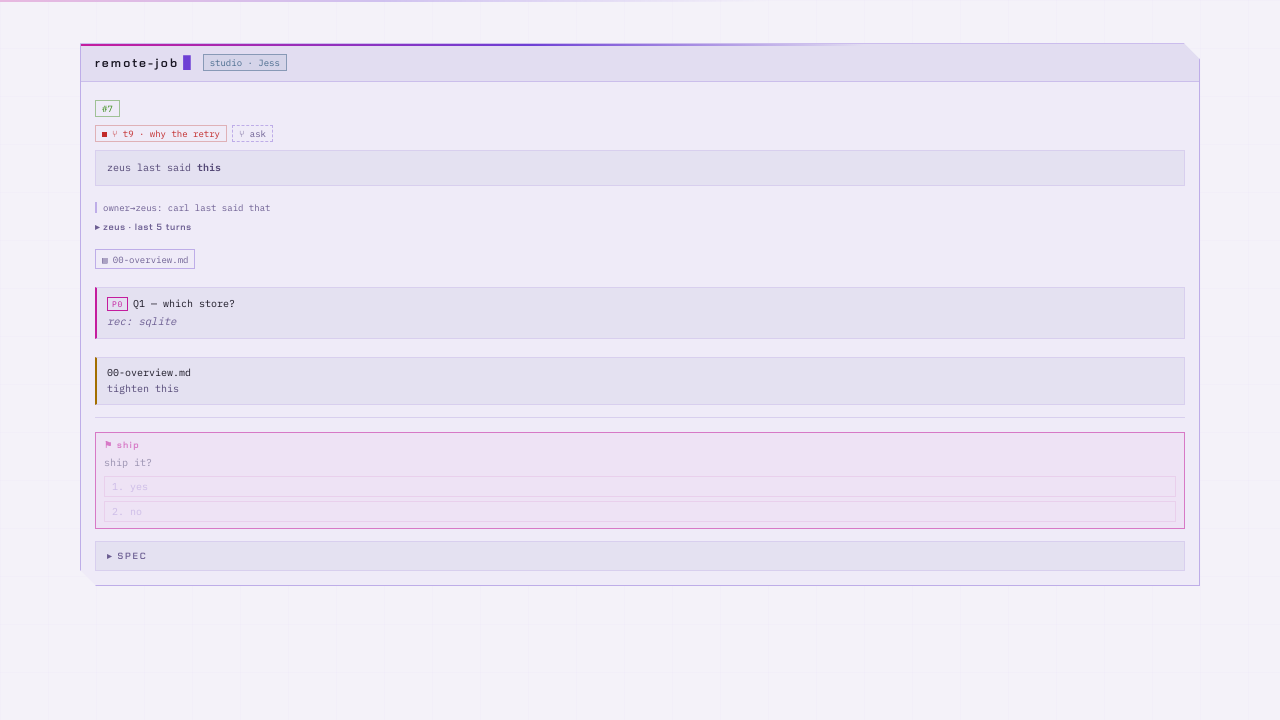
RemoteSteerBody context containers › never shows the frontmatter of a CRLF spec
Click the button with id "steer-spec-toggle" at x=109, y=556, box [96,542,1184,570]
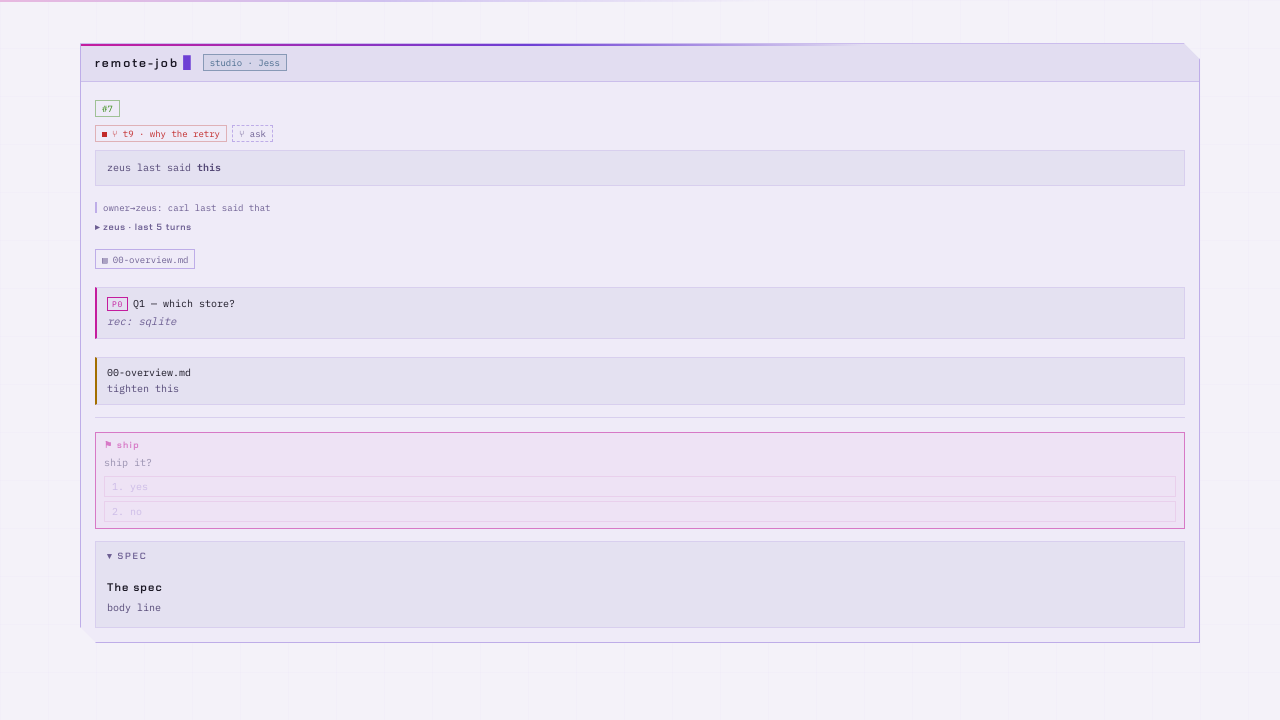
Expected: the element with id "steer-spec-body" shows "The spec", [107,580,163,594]
